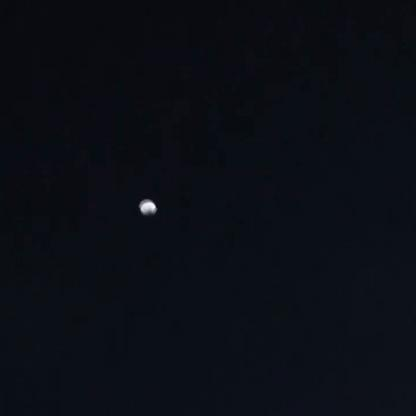ball: (135, 192, 160, 219)
